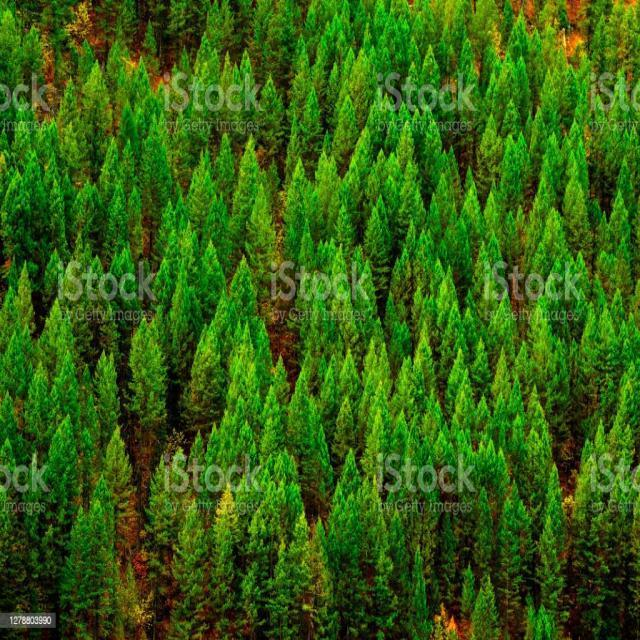Tree: (320, 474, 402, 629), (573, 448, 607, 640), (69, 485, 115, 622), (497, 477, 531, 635), (126, 316, 166, 446), (174, 496, 208, 640), (277, 515, 315, 638), (210, 486, 238, 616), (190, 331, 222, 421), (194, 34, 223, 129), (228, 51, 259, 139), (144, 116, 174, 205), (46, 420, 76, 506), (43, 302, 74, 382), (82, 62, 112, 138), (409, 548, 434, 636), (502, 132, 532, 205), (246, 187, 274, 261), (111, 0, 141, 69), (170, 283, 194, 367), (66, 0, 98, 61), (285, 170, 314, 234), (96, 355, 120, 430), (168, 0, 202, 51), (107, 429, 132, 498), (472, 579, 500, 640), (259, 74, 283, 144), (2, 332, 28, 396), (188, 164, 214, 227), (444, 213, 470, 275), (57, 341, 79, 414), (476, 489, 496, 567), (232, 258, 256, 320), (287, 384, 308, 454), (202, 243, 226, 304), (566, 184, 588, 250), (12, 263, 34, 329), (314, 154, 339, 212), (471, 0, 500, 48), (28, 367, 50, 430), (208, 0, 235, 51), (364, 346, 391, 397), (60, 262, 85, 316), (297, 174, 319, 233), (544, 213, 568, 267), (366, 208, 388, 266), (478, 235, 500, 291), (357, 261, 377, 322), (239, 138, 261, 192), (608, 196, 630, 249), (217, 134, 235, 198), (479, 120, 501, 172), (403, 170, 423, 226), (395, 361, 415, 416), (541, 70, 562, 122), (416, 336, 434, 396), (502, 206, 520, 266), (422, 122, 442, 175), (490, 300, 512, 348), (335, 399, 354, 454), (542, 134, 562, 186), (474, 80, 497, 124), (126, 185, 142, 248), (390, 250, 410, 300), (304, 89, 322, 144), (448, 355, 468, 404), (336, 94, 356, 142), (512, 56, 530, 109), (118, 248, 136, 301), (334, 203, 354, 250), (110, 192, 126, 250), (366, 95, 386, 141), (339, 352, 358, 400), (472, 338, 489, 391), (461, 180, 479, 230), (484, 192, 501, 244), (534, 174, 556, 214), (508, 15, 528, 59), (254, 318, 270, 372), (366, 414, 384, 462), (61, 82, 79, 130), (314, 425, 329, 482), (100, 308, 118, 354), (517, 340, 534, 388), (62, 124, 79, 172), (345, 161, 362, 209), (414, 227, 432, 272), (262, 416, 282, 456), (44, 251, 60, 301), (2, 393, 18, 443), (530, 298, 548, 342), (393, 316, 411, 359), (355, 128, 373, 170), (264, 386, 282, 428), (446, 301, 462, 348), (179, 224, 196, 268), (290, 68, 308, 109), (461, 36, 476, 84), (494, 353, 510, 398), (616, 158, 634, 198), (318, 365, 334, 410), (546, 466, 561, 513), (142, 20, 156, 70), (190, 432, 204, 482), (397, 126, 413, 169), (436, 174, 452, 217), (450, 1, 466, 44), (272, 353, 288, 395), (594, 213, 610, 255), (422, 46, 437, 90), (292, 34, 308, 74), (340, 451, 358, 486), (157, 258, 172, 299), (315, 31, 330, 72), (300, 228, 314, 270), (106, 136, 120, 178), (427, 389, 442, 428), (413, 282, 428, 321), (504, 100, 520, 136), (438, 274, 454, 310), (534, 244, 550, 280), (286, 132, 300, 173), (410, 190, 425, 228), (268, 160, 282, 200), (98, 163, 112, 203), (427, 197, 440, 240), (326, 62, 339, 104), (386, 172, 400, 210), (161, 199, 175, 236), (370, 318, 386, 350), (484, 41, 500, 73), (482, 276, 496, 312), (466, 303, 478, 343), (402, 67, 416, 101), (575, 93, 590, 124), (526, 270, 541, 301), (305, 3, 319, 36), (406, 223, 420, 256), (476, 396, 488, 434), (611, 288, 625, 320), (530, 26, 544, 58), (412, 10, 424, 46), (534, 108, 546, 144), (592, 278, 606, 308), (387, 119, 400, 151), (569, 119, 583, 144), (408, 37, 420, 64), (412, 108, 423, 134), (524, 0, 536, 20)
